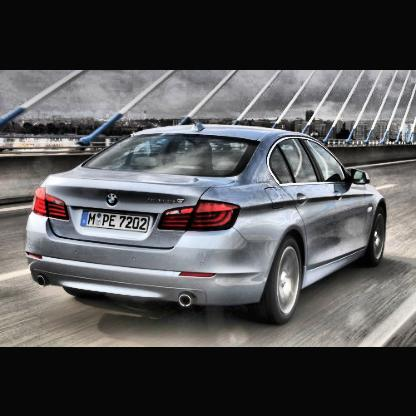BMW ActiveHybrid 5 Sedan 2012: (23, 119, 394, 324)
